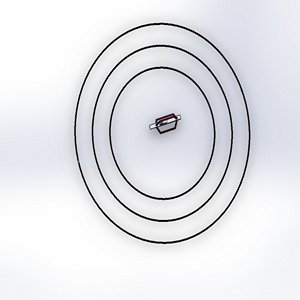circle: (67, 15, 255, 254)
submarine: (145, 106, 186, 146)
